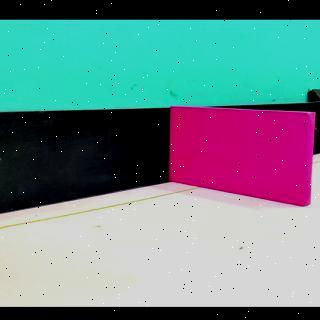xparking: (175, 118, 308, 204)
